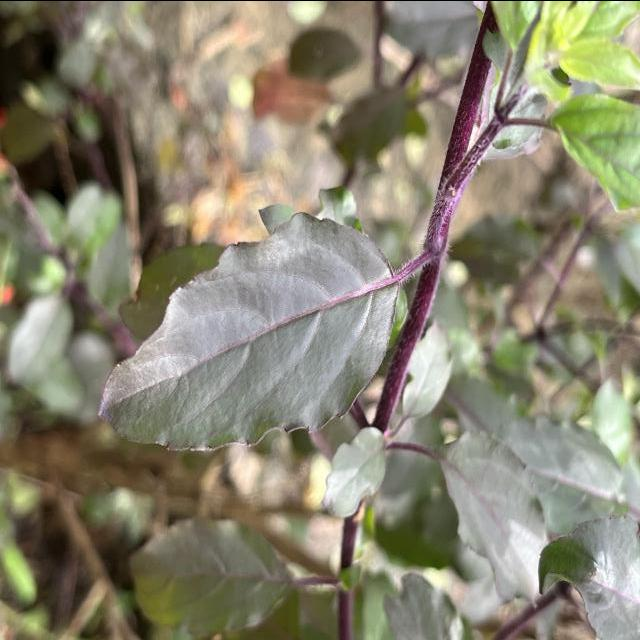Ocimum tenuiflorum: (95, 206, 401, 454)
